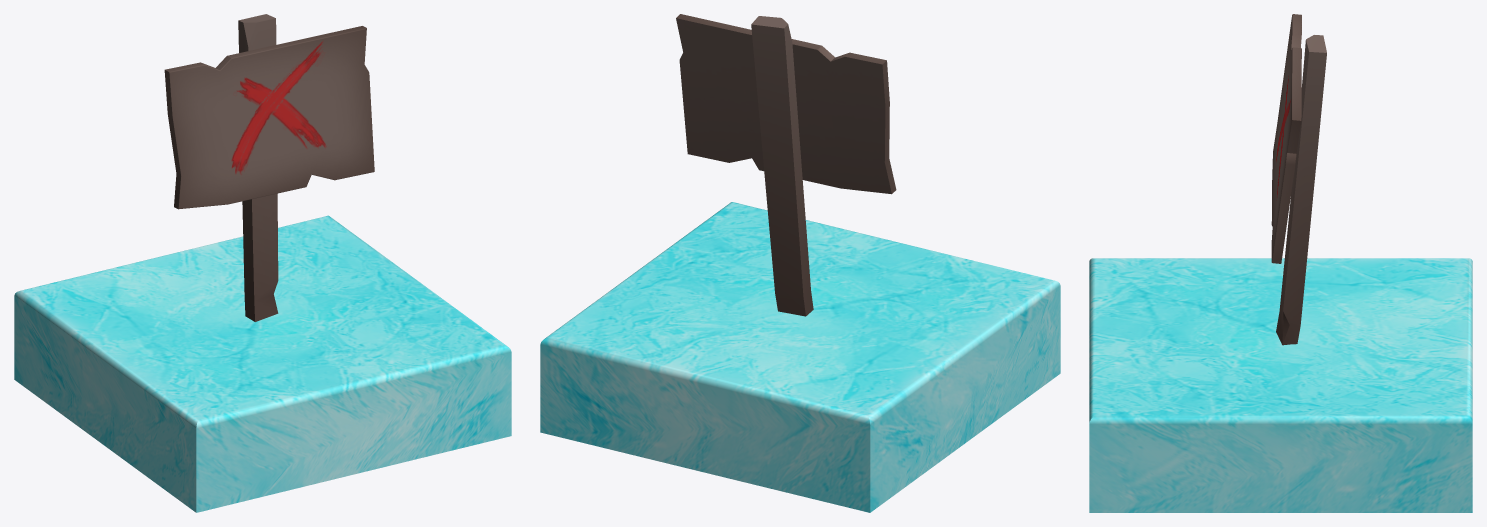
File: Occupied_Tile.fbx
The picture shows the model from 3 angles, left to right: view 1: azimuth 30°, elevation 25°; view 2: azimuth 150°, elevation 25°; view 3: azimuth 270°, elevation 25°; orthographic projection. The views are drawn at different scales.
Visible parts, largest first — view 1: Occupid_Tile, Occupid_Sign; view 2: Occupid_Tile, Occupid_Sign; view 3: Occupid_Tile, Occupid_Sign.
Boxes of the visible parts, box(x1,y1,x2,y2) form: Occupid_Tile: box(14, 215, 511, 512); Occupid_Sign: box(164, 14, 374, 321); Occupid_Tile: box(540, 202, 1060, 512); Occupid_Sign: box(676, 14, 896, 316); Occupid_Tile: box(1089, 258, 1472, 512); Occupid_Sign: box(1271, 14, 1326, 345).
Size of the model in its own units: 5.87 by 6.68 by 5.87.
2 materials, 2 textured.
